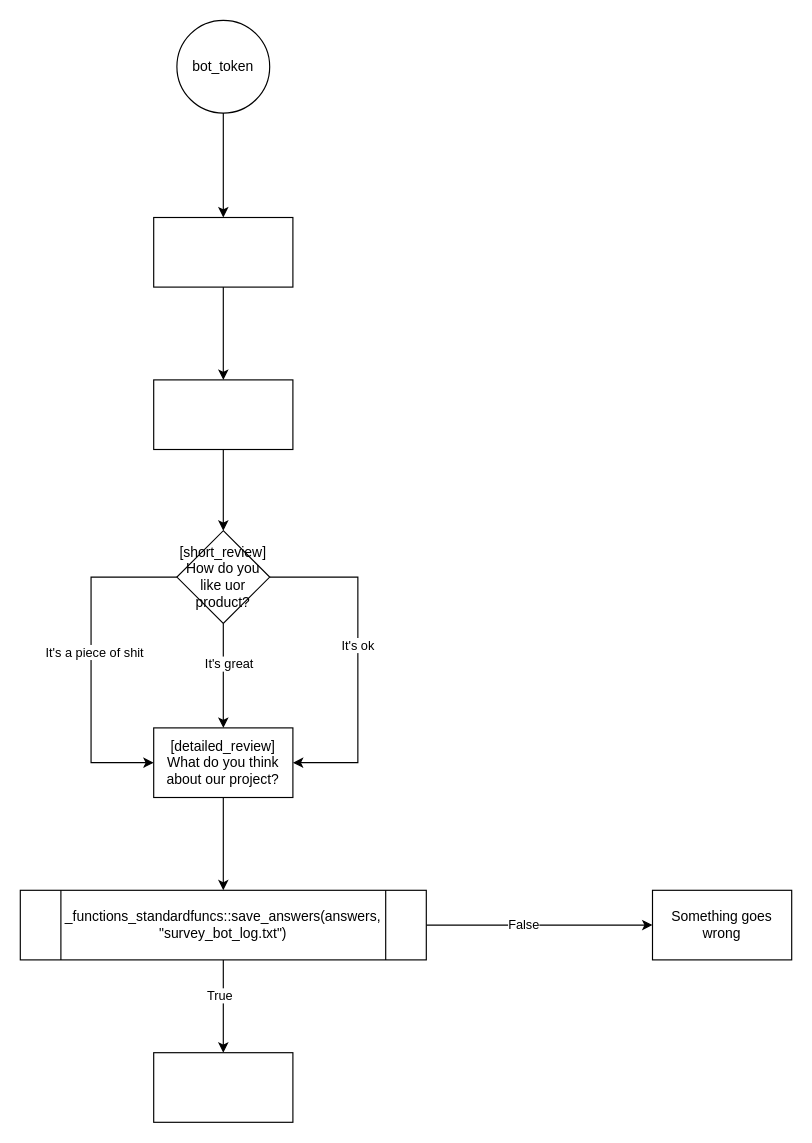
Image size: 812x1143. Some labels were removed from this diagram. Each missing label, with the box of its shape:
[Email] What is your e-mail?: (153, 379, 293, 449)
[Name] What is your name: (153, 216, 293, 287)
Thank you.: (153, 1052, 293, 1122)
